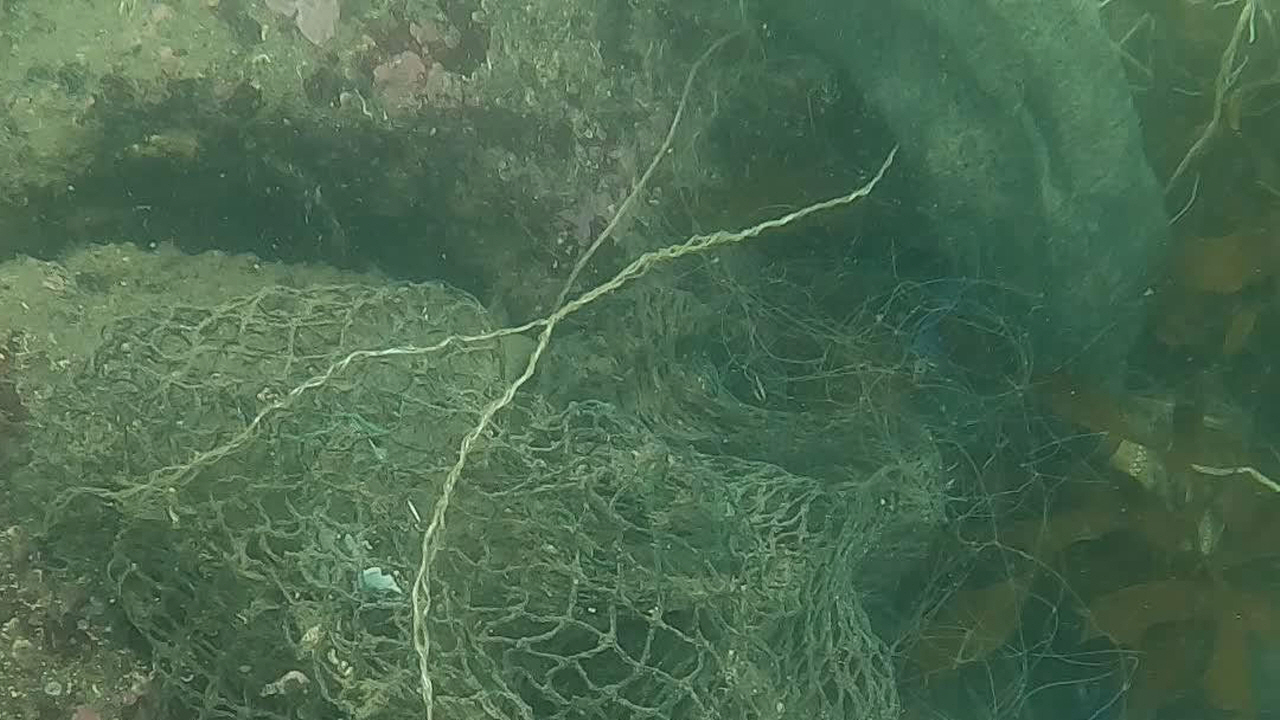fish net: (63, 280, 941, 720)
